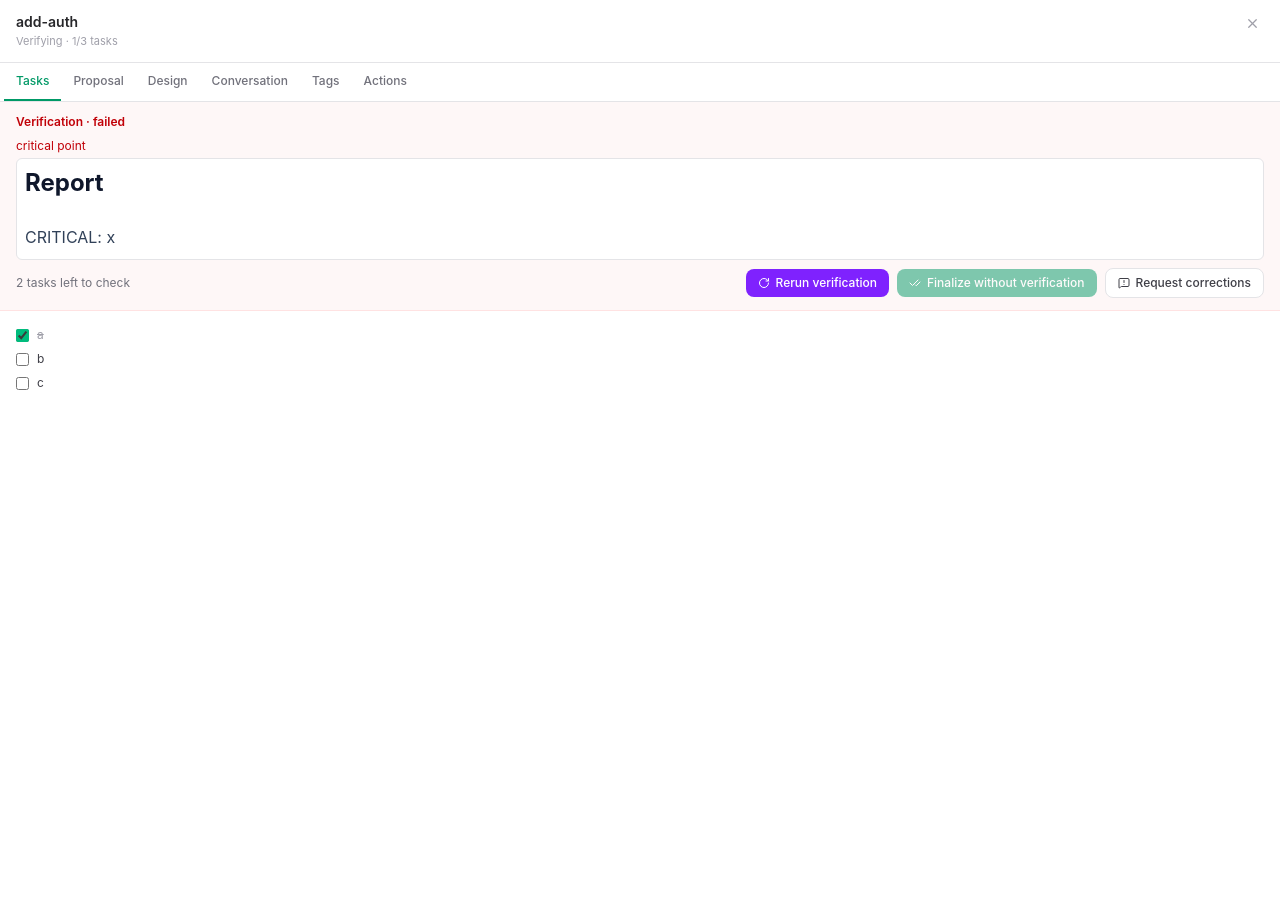
it: DetailPanel verification banner › keeps the dialog open and shows the backend message when the correction is refused
Step 1. Click the button "Request corrections" → (1184, 283), box [1104,268,1264,298]
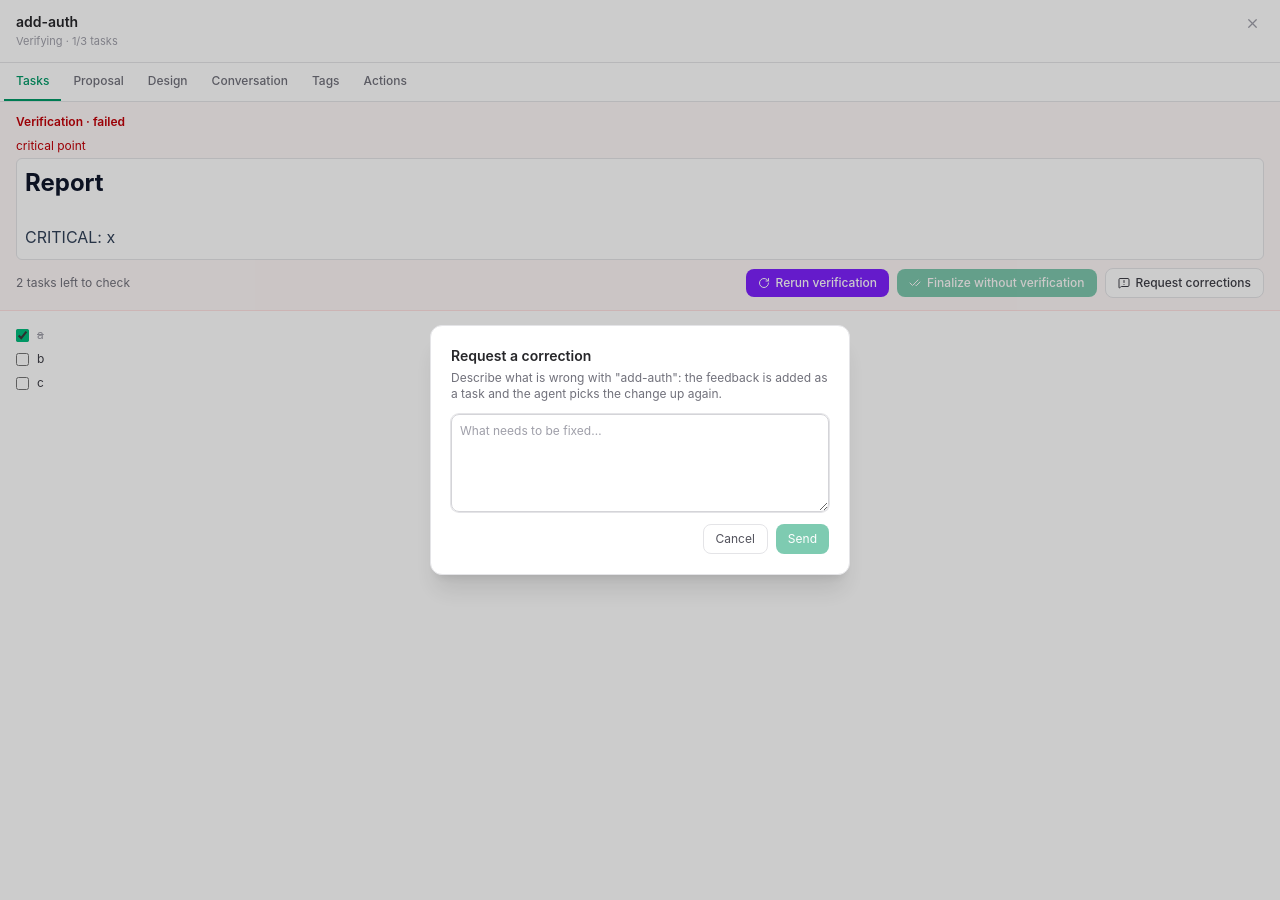
Step 2. Type "x" into the text box → (640, 463), box [451,414,829,512]
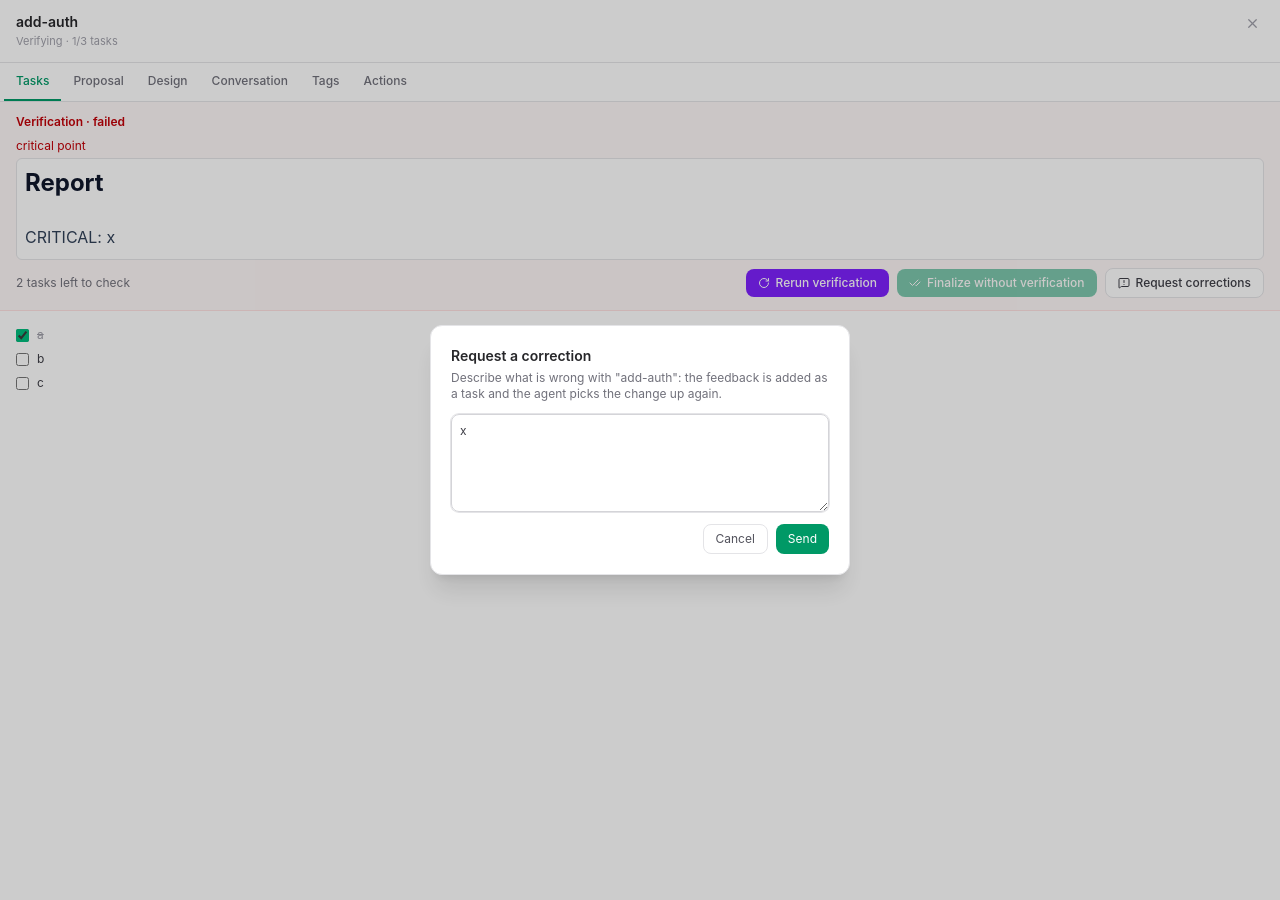
Step 3. Click the button "Send" → (802, 539), box [776,524,829,554]
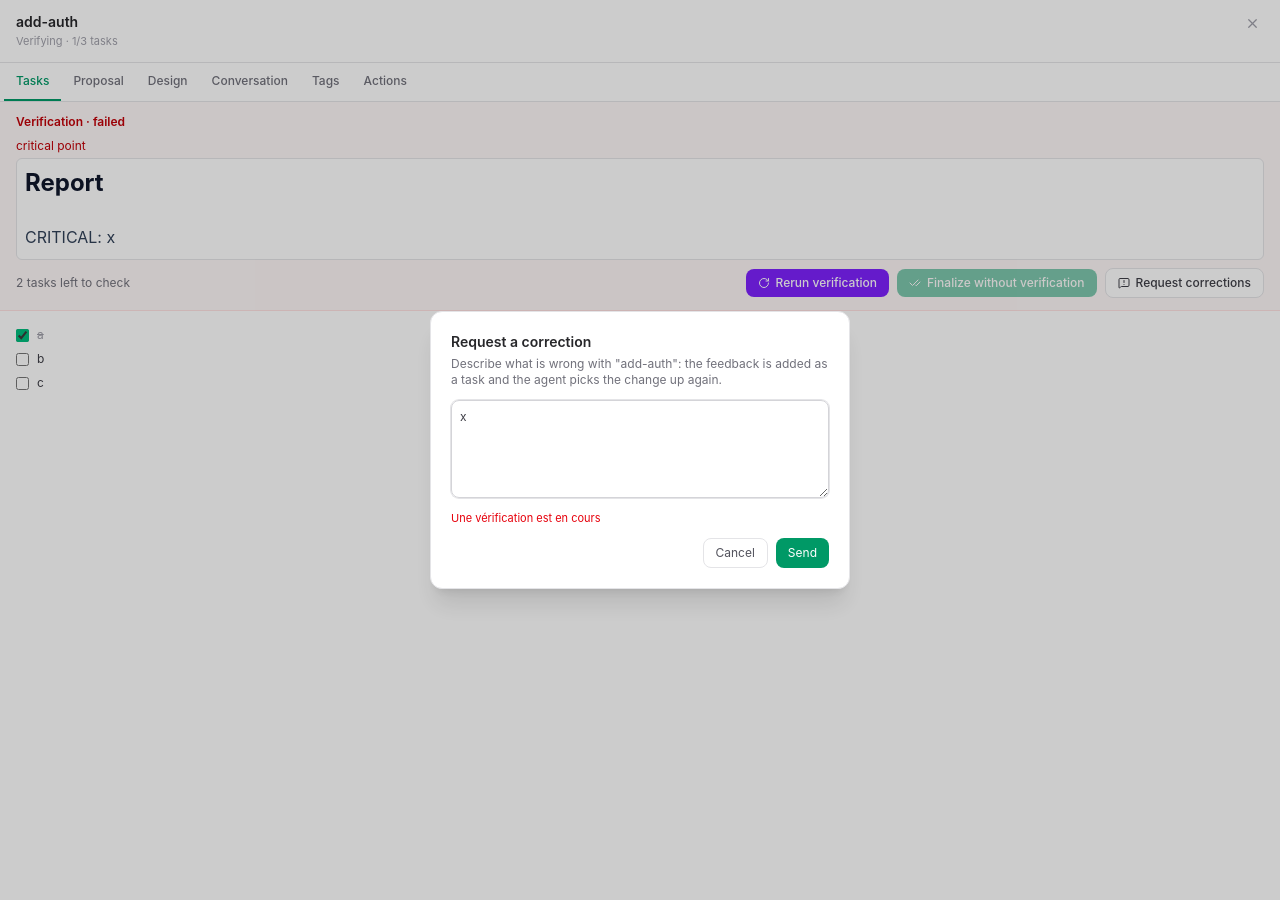
Now the dialog shows "Une vérification est en cours", box [451,511,600,525]
